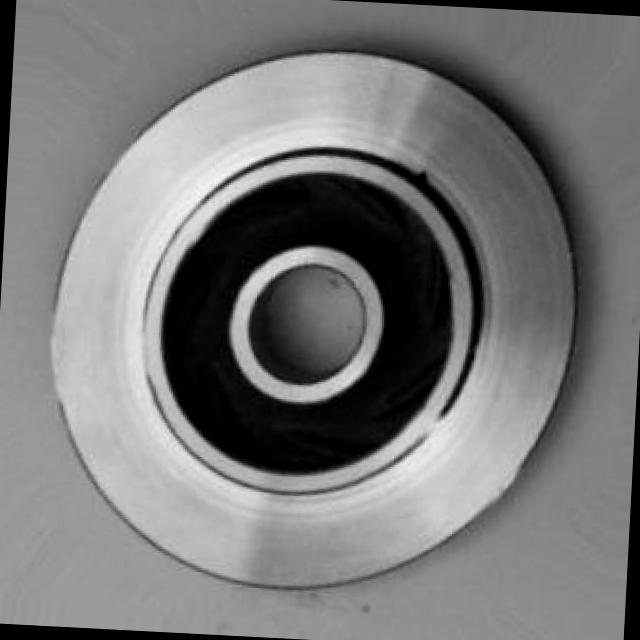Defect: (416, 162, 434, 193)
